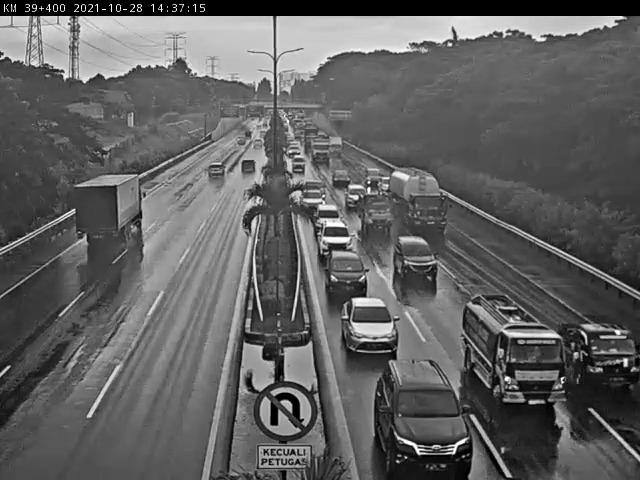big truck: (73, 173, 146, 242), (388, 167, 448, 233), (310, 136, 332, 163)
car: (373, 356, 473, 477), (339, 296, 397, 354), (393, 237, 439, 282), (324, 249, 367, 296), (319, 219, 352, 252), (298, 186, 323, 213), (311, 199, 337, 224), (343, 182, 367, 208), (209, 162, 227, 180), (364, 166, 381, 184), (241, 158, 257, 175), (330, 169, 348, 184), (301, 173, 322, 185), (291, 154, 304, 171)
small truck: (461, 293, 568, 407), (556, 319, 640, 392), (359, 195, 393, 235)
